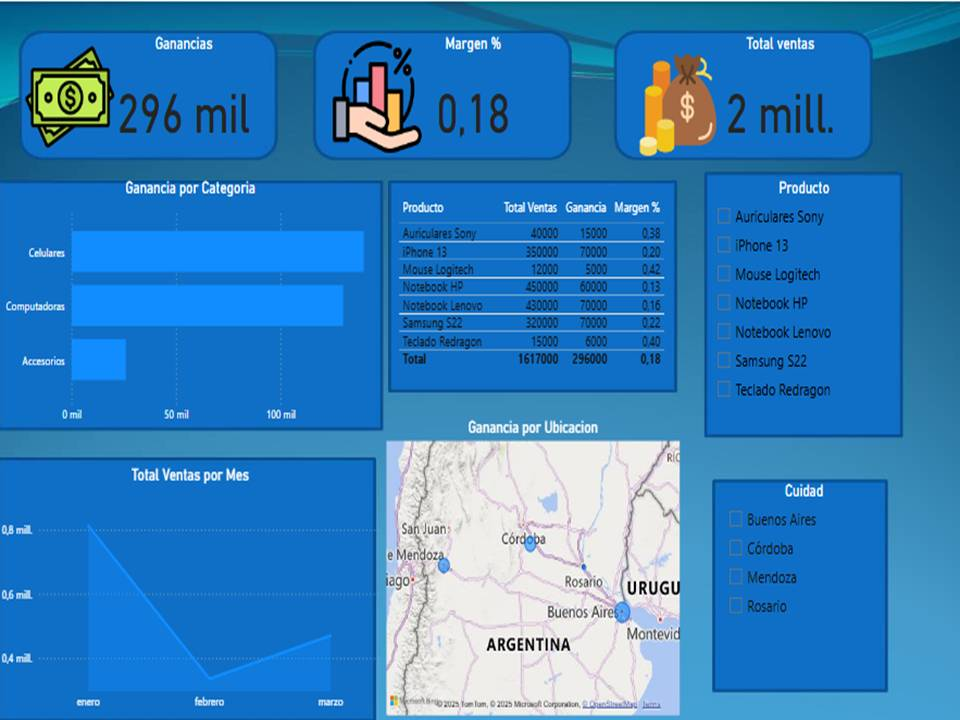

This screenshot's page, from the dashboard's own definition file:
{"tool":"powerbi","page":{"name":"Página 1","canvas":[1280,720],"ordinal":0},"visuals":[{"type":"card","title":"Ganancias","fields":{"Values":["Medidas DAX.Ganancia"]},"box":[96,32,304,128],"z":0},{"type":"card","title":"Margen %","fields":{"Values":["Medidas DAX.Margen %"]},"box":[480,32,304,128],"z":1000},{"type":"card","title":"Total ventas","fields":{"Values":["Medidas DAX.Total Ventas"]},"box":[896,32,288,128],"z":2000},{"type":"clusteredBarChart","title":"Ganancia por Categoria","fields":{"Category":["Top de categoria.Categoria"],"Y":["Sum(Top de categoria.Ganancia)"]},"box":[0,176,512,256],"z":3000},{"type":"map","fields":{"Size":["Medidas DAX.Ganancia"],"Category":["Hoja1.Ubicacion"]},"box":[512,416,400,304],"z":4000},{"type":"stackedAreaChart","fields":{"Category":["Hoja1.Fecha.Variación.Jerarquía de fechas.Mes"],"Y":["Medidas DAX.Total Ventas"]},"box":[0,464,512,256],"z":5000},{"type":"tableEx","fields":{"Values":["Hoja1.Producto","Medidas DAX.Total Ventas","Medidas DAX.Ganancia","Medidas DAX.Margen %"]},"box":[528,192,368,192],"z":6000},{"type":"slicer","title":"Producto","fields":{"Values":["Hoja1.Producto"]},"box":[944,176,256,272],"z":7000},{"type":"slicer","title":"Cuidad","fields":{"Values":["Hoja1.Ciudad"]},"box":[960,480,224,208],"z":8000},{"type":"image","box":[848,48,112,112],"z":8001},{"type":"image","box":[384,32,240,128],"z":8002},{"type":"image","box":[32,32,128,128],"z":8003}]}

Visuals, with their boxes on the page's 1280x720 design canvas (x1, y1, x2, y2). These are canvas units, not pixel positions in the 960x720 screenshot, which may show the page scaled, cropped or inside an application window:
"Ganancias" card: locate(96, 32, 400, 160)
"Margen %" card: locate(480, 32, 784, 160)
"Total ventas" card: locate(896, 32, 1184, 160)
"Ganancia por Categoria" clusteredBarChart: locate(0, 176, 512, 432)
map - Medidas DAX.Ganancia x Hoja1.Ubicacion: locate(512, 416, 912, 720)
stackedAreaChart - Hoja1.Fecha.Variación.Jerarquía de fechas.Mes x Medidas DAX.Total Ventas: locate(0, 464, 512, 720)
tableEx - Hoja1.Producto x Medidas DAX.Total Ventas: locate(528, 192, 896, 384)
"Producto" slicer: locate(944, 176, 1200, 448)
"Cuidad" slicer: locate(960, 480, 1184, 688)
image: locate(848, 48, 960, 160)
image: locate(384, 32, 624, 160)
image: locate(32, 32, 160, 160)
